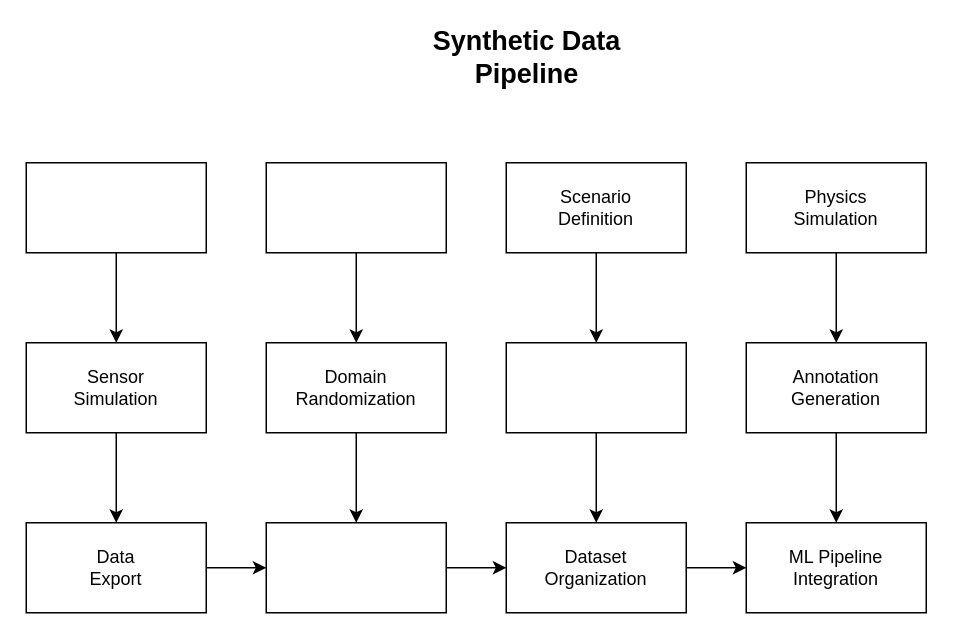
The diagram is 953 pixels wide and 639 high, and some of its shapes have lost their labels. The box of each missing label's shape, as (x1, y1, x2, y2) in pixels:
Data Collection: (505, 341, 686, 433)
Environment Setup: (25, 161, 206, 253)
Quality Validation: (265, 521, 446, 613)
Robot Configuration: (265, 161, 446, 253)
